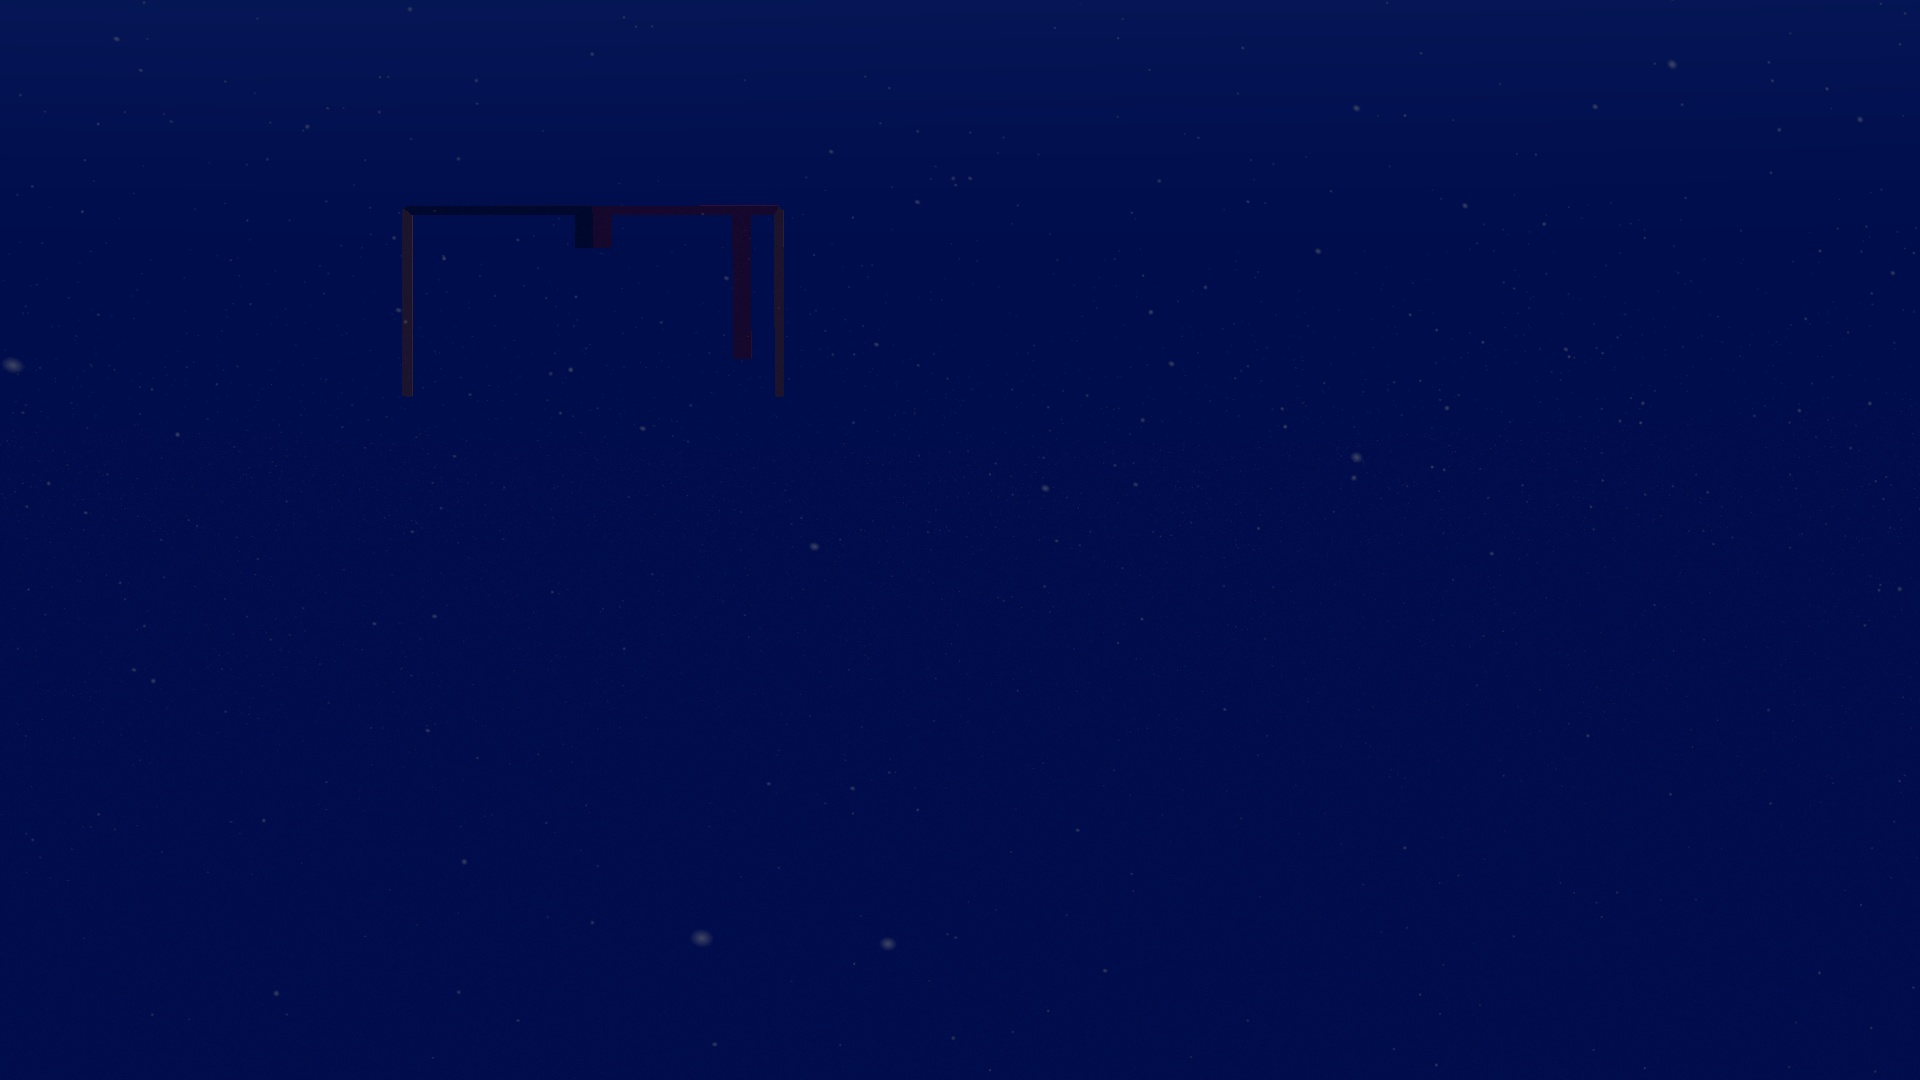Gate: (384, 194, 794, 413)
